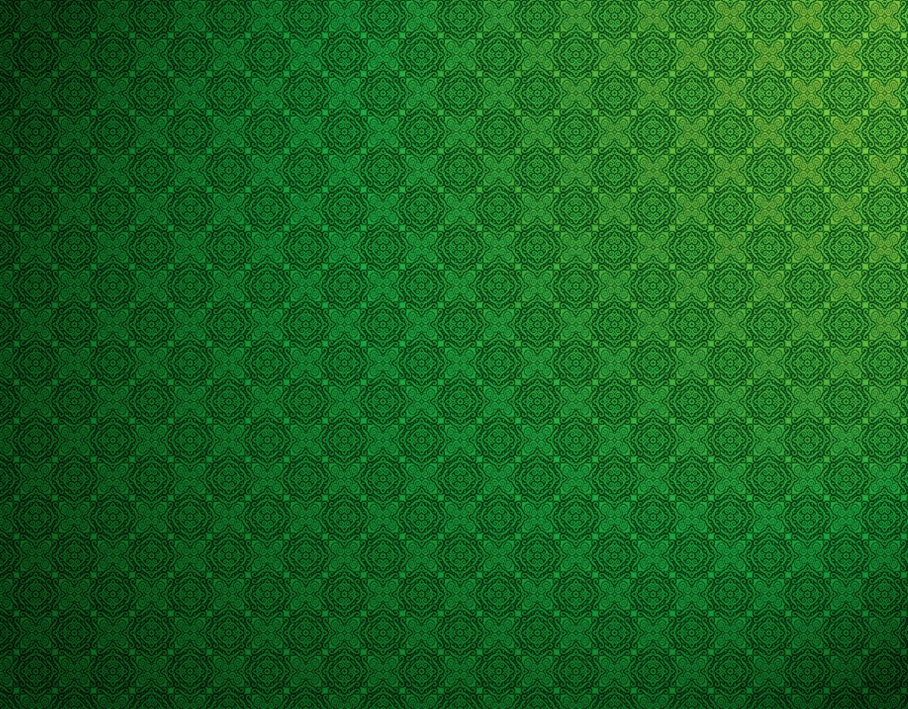Green: (20, 16, 894, 694)
